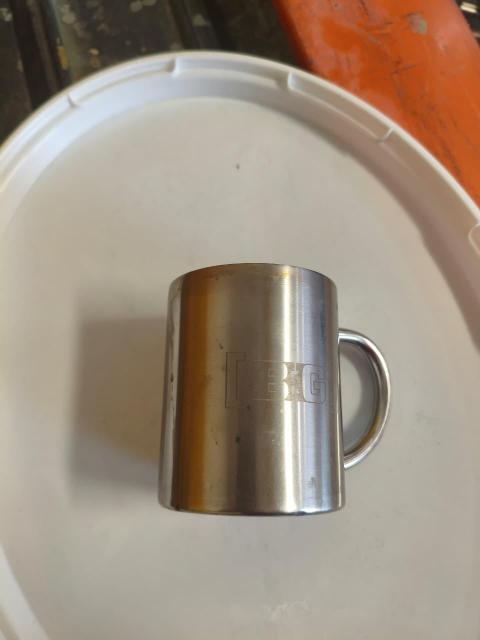Metal: (167, 263, 390, 533)
